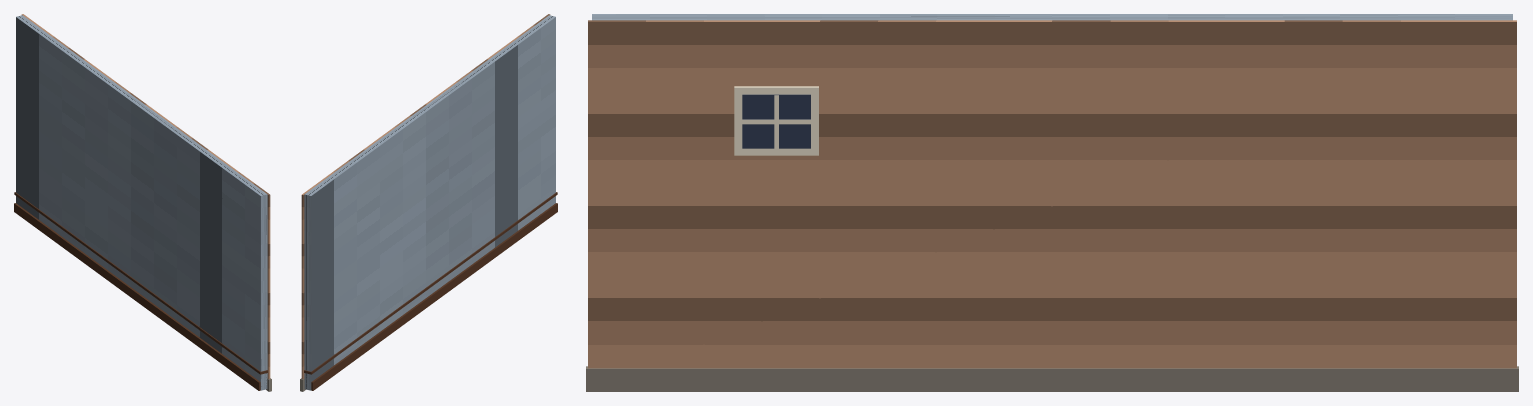
The model's file is right.glb.
3 renders of one model, left to right at view 1: azimuth 30°, elevation 25°; view 2: azimuth 150°, elevation 25°; view 3: azimuth 270°, elevation 25°, orthographic. The views are drawn at different scales.
Parts seen in each view (by area): view 1: Box1, Box2, Box3, Box10; view 2: Box1, Box2, Box3, Box10; view 3: Box3, Box4, Box1, Box6, Box5.
Boxes of the visible parts, x1=… form: Box1: x1=16, y1=15, x2=267, y2=390; Box2: x1=14, y1=203, x2=260, y2=390; Box3: x1=21, y1=14, x2=270, y2=379; Box10: x1=14, y1=192, x2=267, y2=374; Box1: x1=304, y1=15, x2=555, y2=390; Box2: x1=311, y1=203, x2=557, y2=390; Box3: x1=301, y1=14, x2=550, y2=379; Box10: x1=304, y1=192, x2=557, y2=374; Box3: x1=588, y1=20, x2=1516, y2=368; Box4: x1=586, y1=366, x2=1518, y2=391; Box1: x1=592, y1=14, x2=1512, y2=20; Box6: x1=742, y1=94, x2=810, y2=148; Box5: x1=734, y1=86, x2=818, y2=155.
Size of the model in its own units: 0.278 by 4.14 by 9.47.
Materials: 6 (2 with a texture image).
